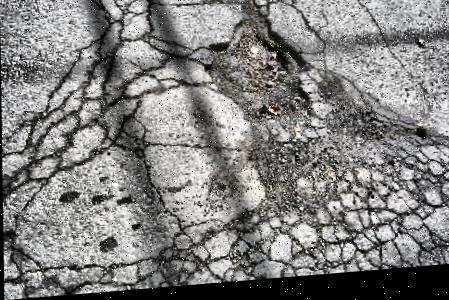pothole: (200, 0, 318, 133)
